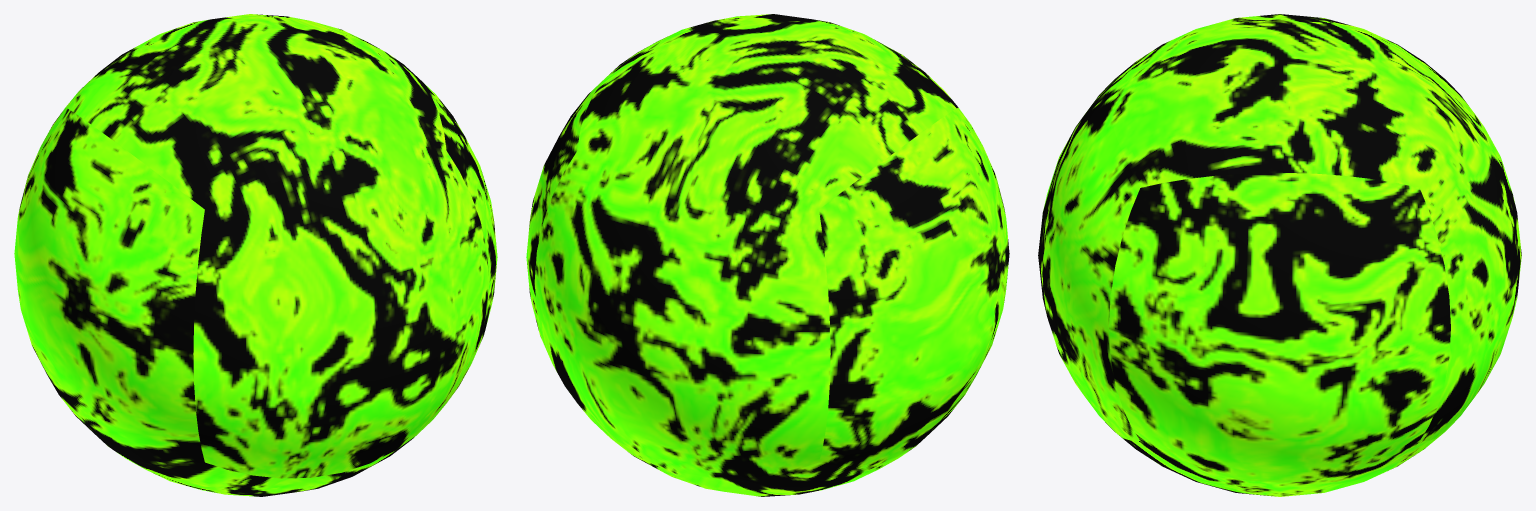
File: poison.glb
3 renders of one model, left to right at view 1: azimuth 30°, elevation 25°; view 2: azimuth 150°, elevation 25°; view 3: azimuth 270°, elevation 25°, orthographic.
Visible parts, largest first — view 1: 0_fireball_green; view 2: 0_fireball_green; view 3: 0_fireball_green.
Boxes of the visible parts, x1=… form: 0_fireball_green: x1=14, y1=14, x2=497, y2=496; 0_fireball_green: x1=526, y1=14, x2=1009, y2=496; 0_fireball_green: x1=1038, y1=14, x2=1521, y2=496.
Bounding box in the file's own units: 0.127 × 0.127 × 0.127.
Materials: 1 (1 with a texture image).
